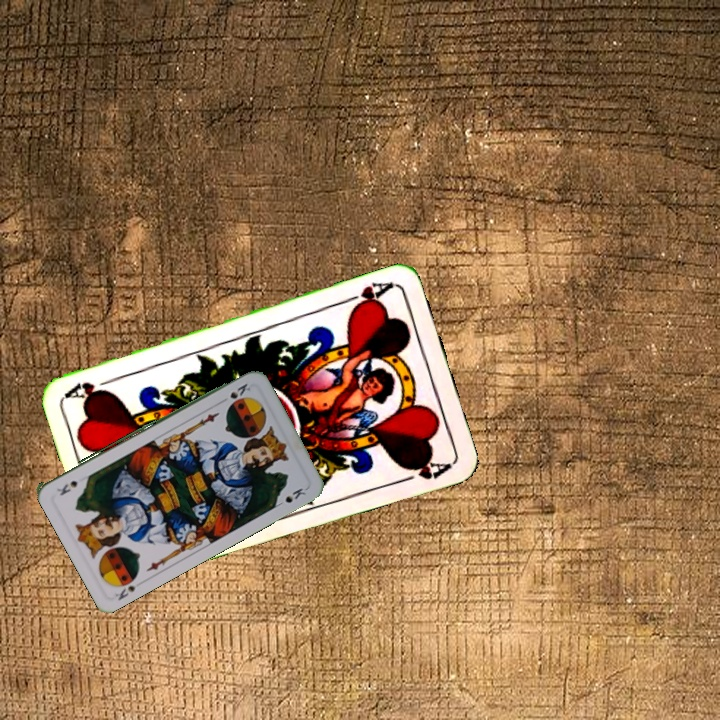HA: (339, 278, 397, 314)
SK: (111, 578, 146, 603), (226, 379, 253, 401)
